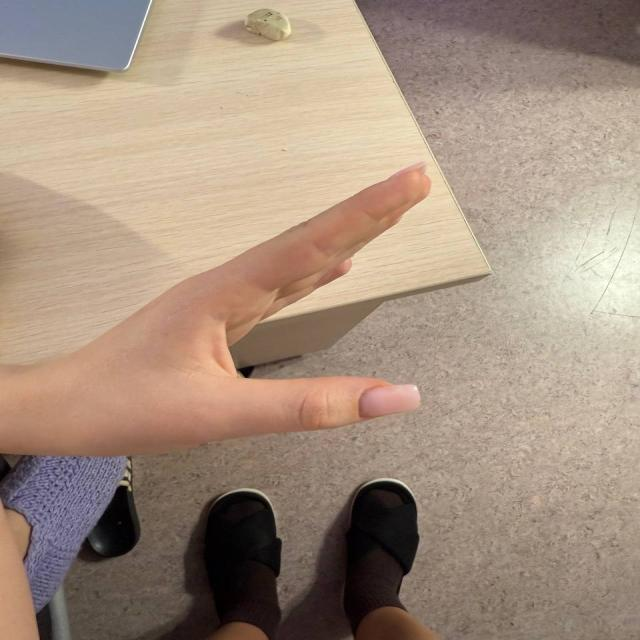s: (100, 170, 464, 477)
